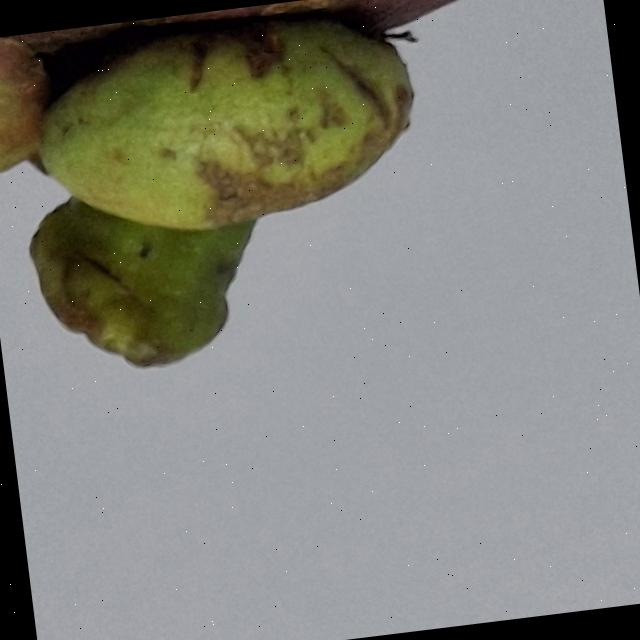mangosteen: (0, 0, 640, 423)
